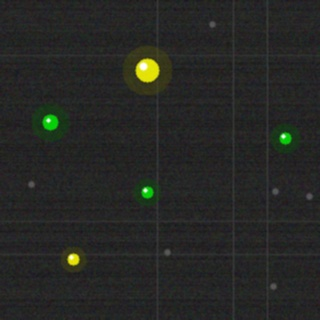green_normal: (40, 112, 60, 132), (277, 130, 293, 146), (139, 184, 155, 200)
yellow_warning: (133, 56, 161, 84), (65, 251, 81, 267)
